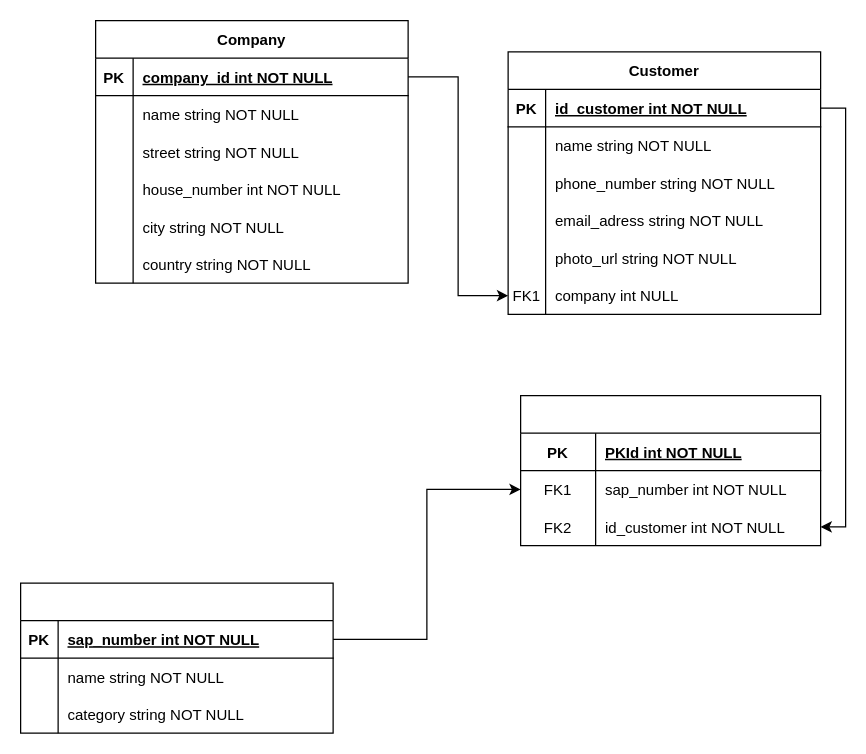
Some shapes in this 866 by 754 pixel diagram are drawn without their labels. The box of each missing label's shape, as (x1, y1, x2, y2) in pixels:
Product: (19, 582, 333, 733)
Product_Customer: (519, 394, 821, 546)
